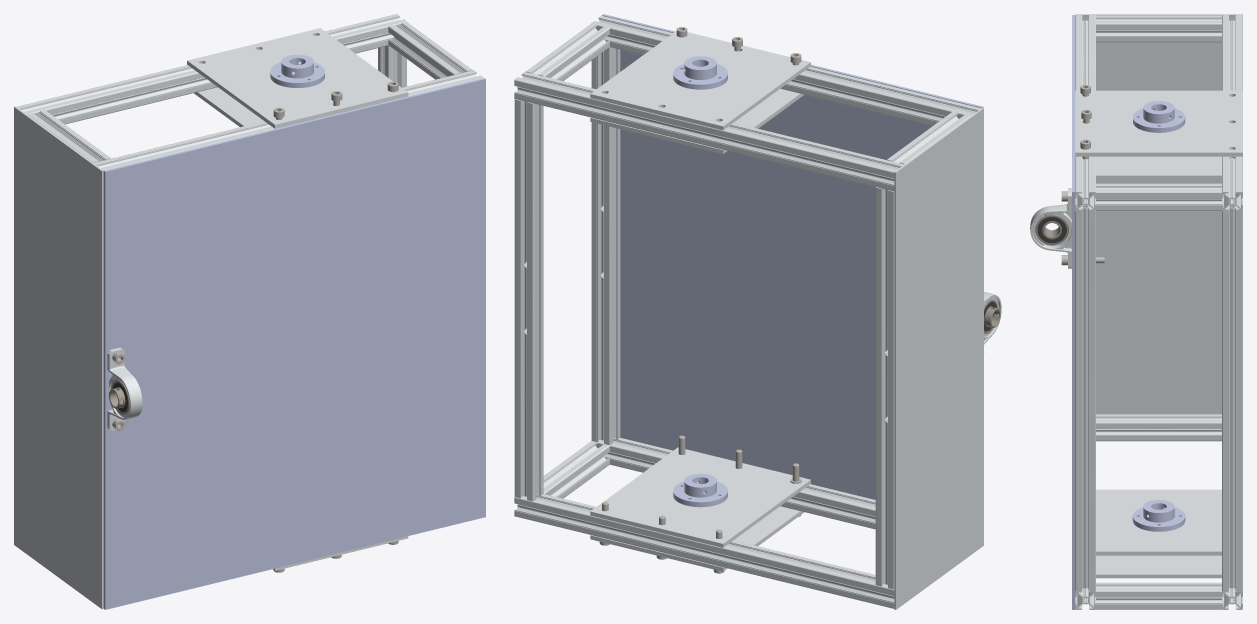
File: Body.obj
3 renders of one model, left to right at view 1: azimuth 30°, elevation 25°; view 2: azimuth 150°, elevation 25°; view 3: azimuth 270°, elevation 25°, orthographic. The views are drawn at different scales.
Parts seen in each view (by area): view 1: Body; view 2: Body; view 3: Body.
Part boxes in pixels (left/top/right/bottom): Body: left=14, top=14, right=485, bottom=609; Body: left=514, top=14, right=1001, bottom=609; Body: left=1030, top=14, right=1242, bottom=609.
Size of the model in its own units: 0.402 by 0.478 by 0.203.
